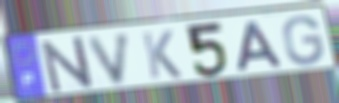5: (182, 20, 232, 79)
A: (235, 19, 287, 73)
G: (281, 14, 326, 68)
K: (139, 29, 184, 81)
N: (39, 35, 97, 95)
V: (85, 30, 134, 88)
